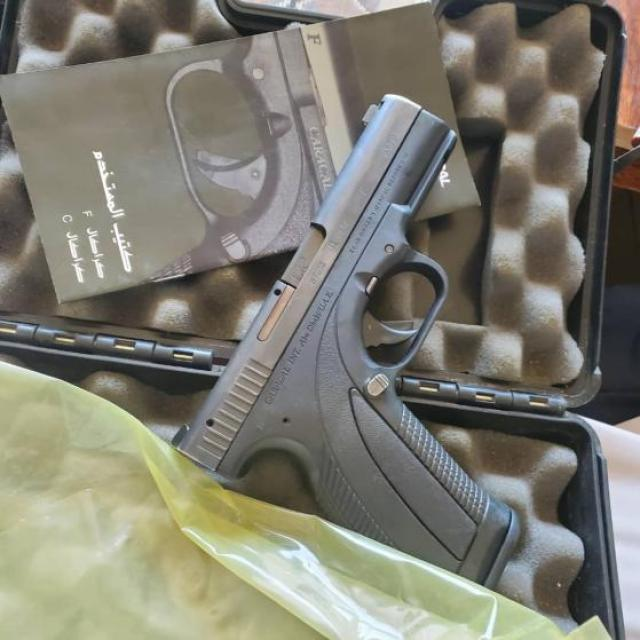Gun: (160, 68, 536, 610)
